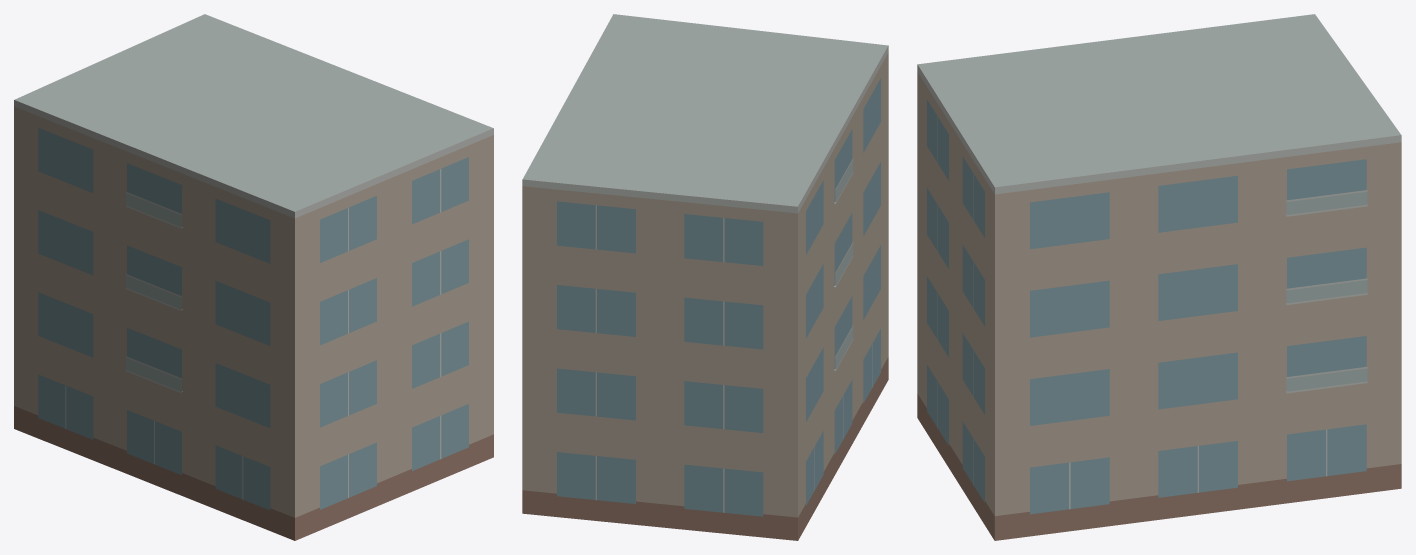
File: survey-upis-32861873.glb
The picture shows the model from 3 angles, left to right: view 1: azimuth 30°, elevation 25°; view 2: azimuth 150°, elevation 25°; view 3: azimuth 270°, elevation 25°; orthographic projection. The views are drawn at different scales.
Parts seen in each view (by area): view 1: survey-upis-32861873.tmp; view 2: survey-upis-32861873.tmp; view 3: survey-upis-32861873.tmp.
Boxes of the visible parts, bbox=[...] form: survey-upis-32861873.tmp: bbox=[14, 14, 493, 540]; survey-upis-32861873.tmp: bbox=[522, 14, 888, 540]; survey-upis-32861873.tmp: bbox=[917, 14, 1401, 540].
Size of the model in its own units: 12.84 by 12.2 by 15.15.
